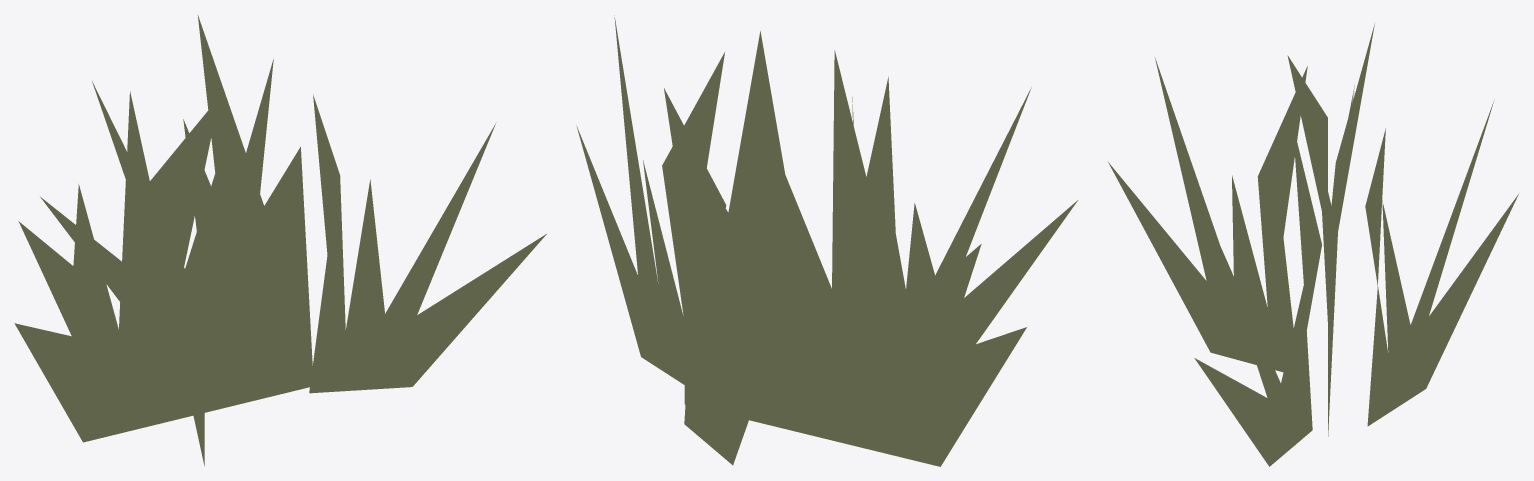
Rendered from SM_grass_01.FBX.
3 renders of one model, left to right at view 1: azimuth 30°, elevation 25°; view 2: azimuth 150°, elevation 25°; view 3: azimuth 270°, elevation 25°, orthographic. The views are drawn at different scales.
Parts seen in each view (by area): view 1: SM_grass_01_LOD0; view 2: SM_grass_01_LOD0; view 3: SM_grass_01_LOD0.
Part boxes in pixels (left/top/right/bottom): SM_grass_01_LOD0: left=14, top=15, right=546, bottom=466; SM_grass_01_LOD0: left=576, top=15, right=1077, bottom=466; SM_grass_01_LOD0: left=1108, top=23, right=1518, bottom=466.
Size of what is drawn, in the model's own units: 85.96 by 66.26 by 65.93.
